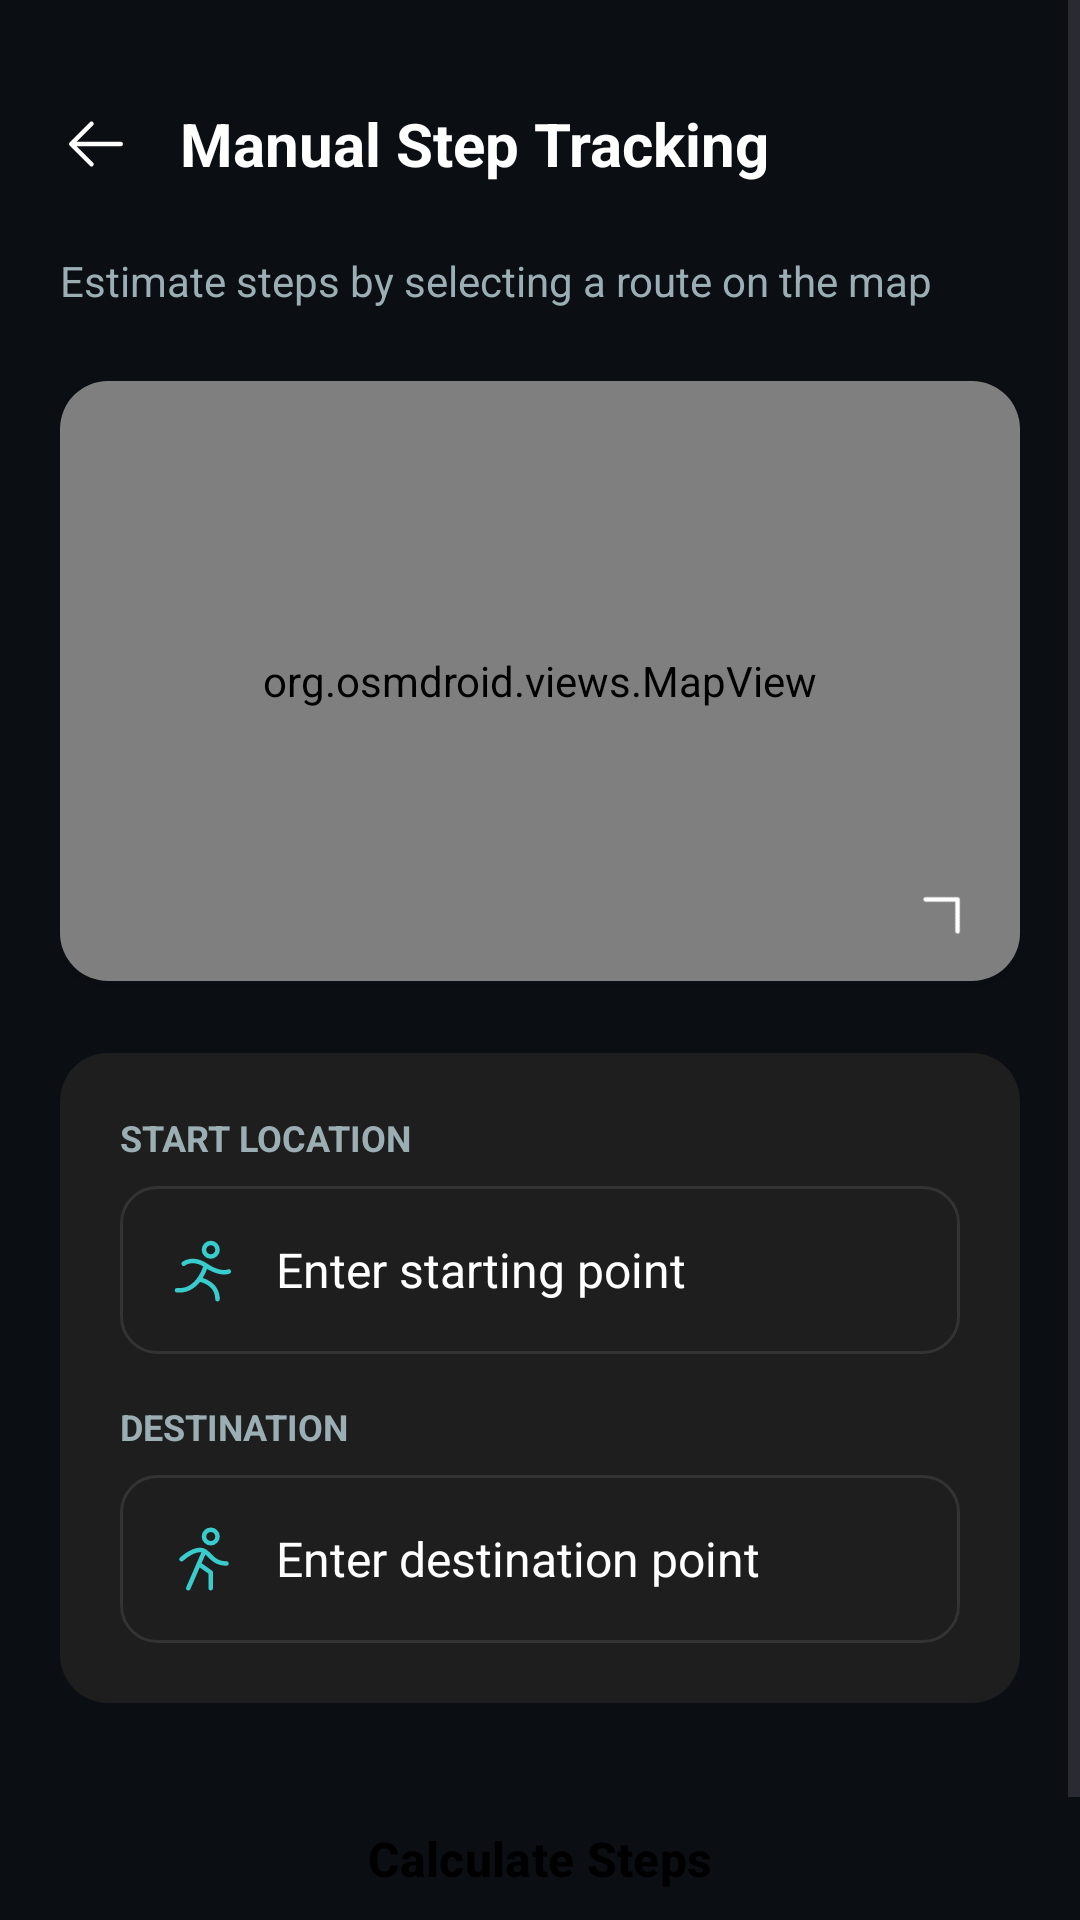

Screen size 1080 × 1920. Icon name, then its center in pixels as (x=x, y=y):
Back: (x=96, y=144)
